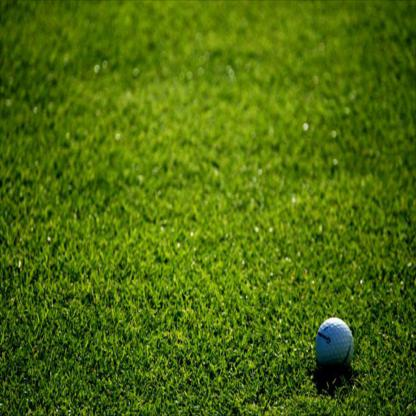Ball: (316, 317, 354, 377)
